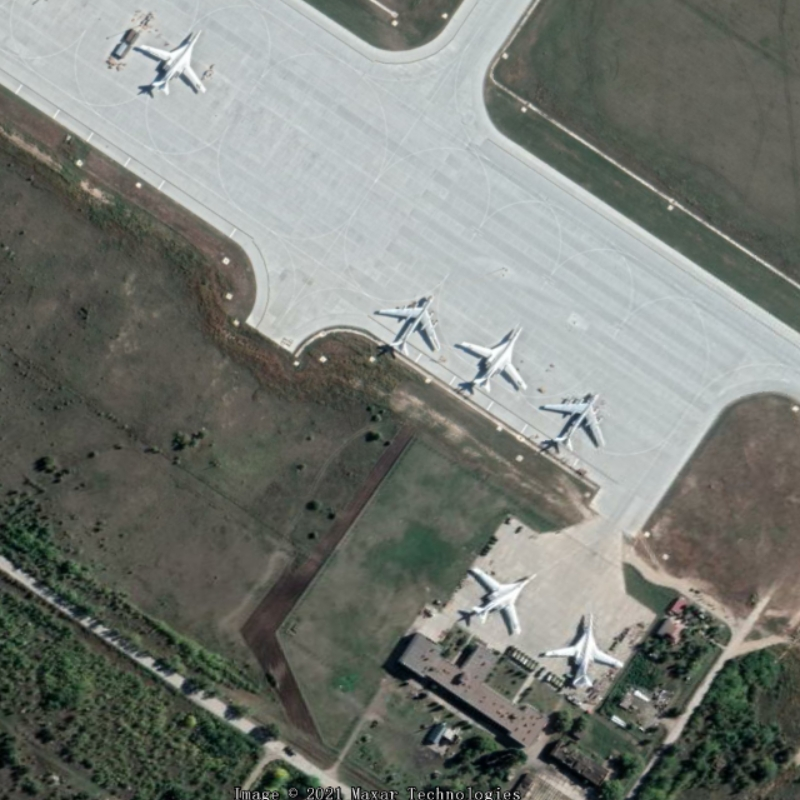A17: (537, 386, 610, 457), (372, 291, 445, 361)
A6: (540, 609, 627, 689), (457, 560, 541, 640), (455, 323, 532, 404), (130, 24, 210, 99)
